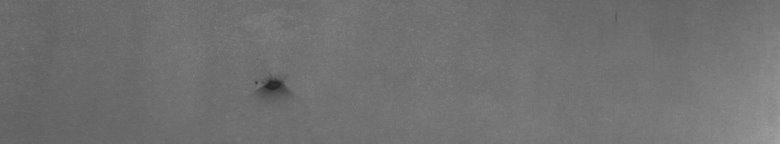fi: (255, 69, 294, 100)
